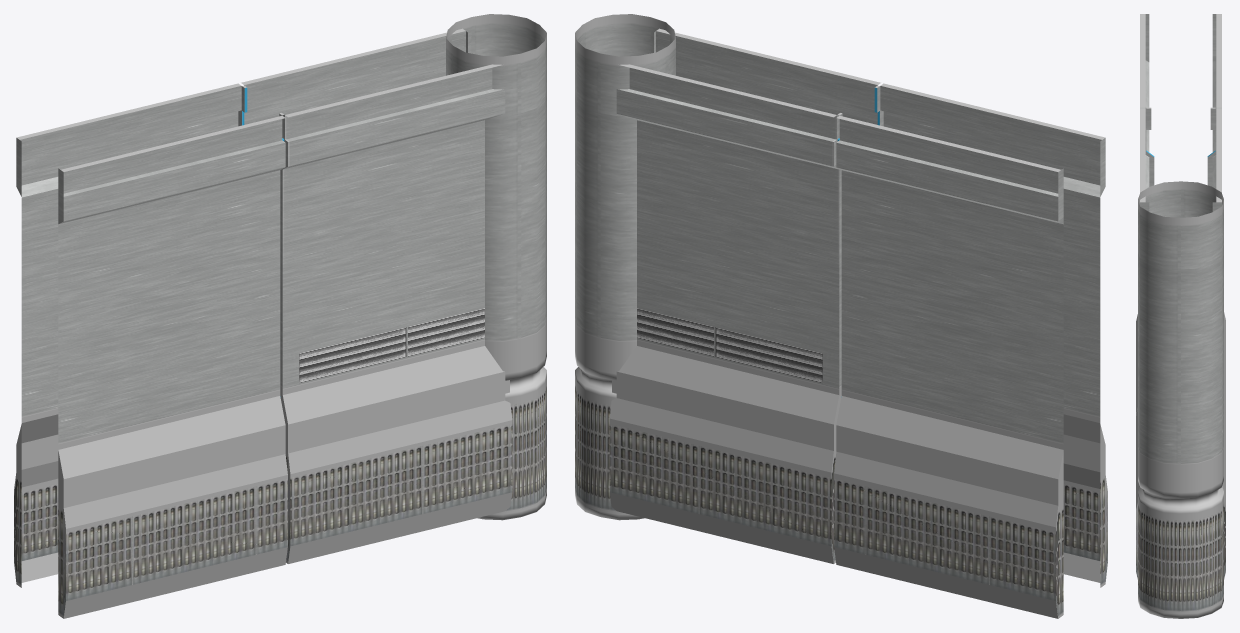
Rendered from machine wall.glb.
3 views of the same model, side by side, from view 1: azimuth 30°, elevation 25°; view 2: azimuth 150°, elevation 25°; view 3: azimuth 270°, elevation 25° (orthographic). The views are drawn at different scales.
Visible parts, largest first — view 1: machine_wall; view 2: machine_wall; view 3: machine_wall.
Boxes of the visible parts, x1,y1,x2,y2 form: machine_wall: (14,14,546,618); machine_wall: (575,14,1107,618); machine_wall: (1136,14,1225,618).
Size of the model in its own units: 5.78 by 5.13 by 1.04.
Materials: 1 (1 with a texture image).
